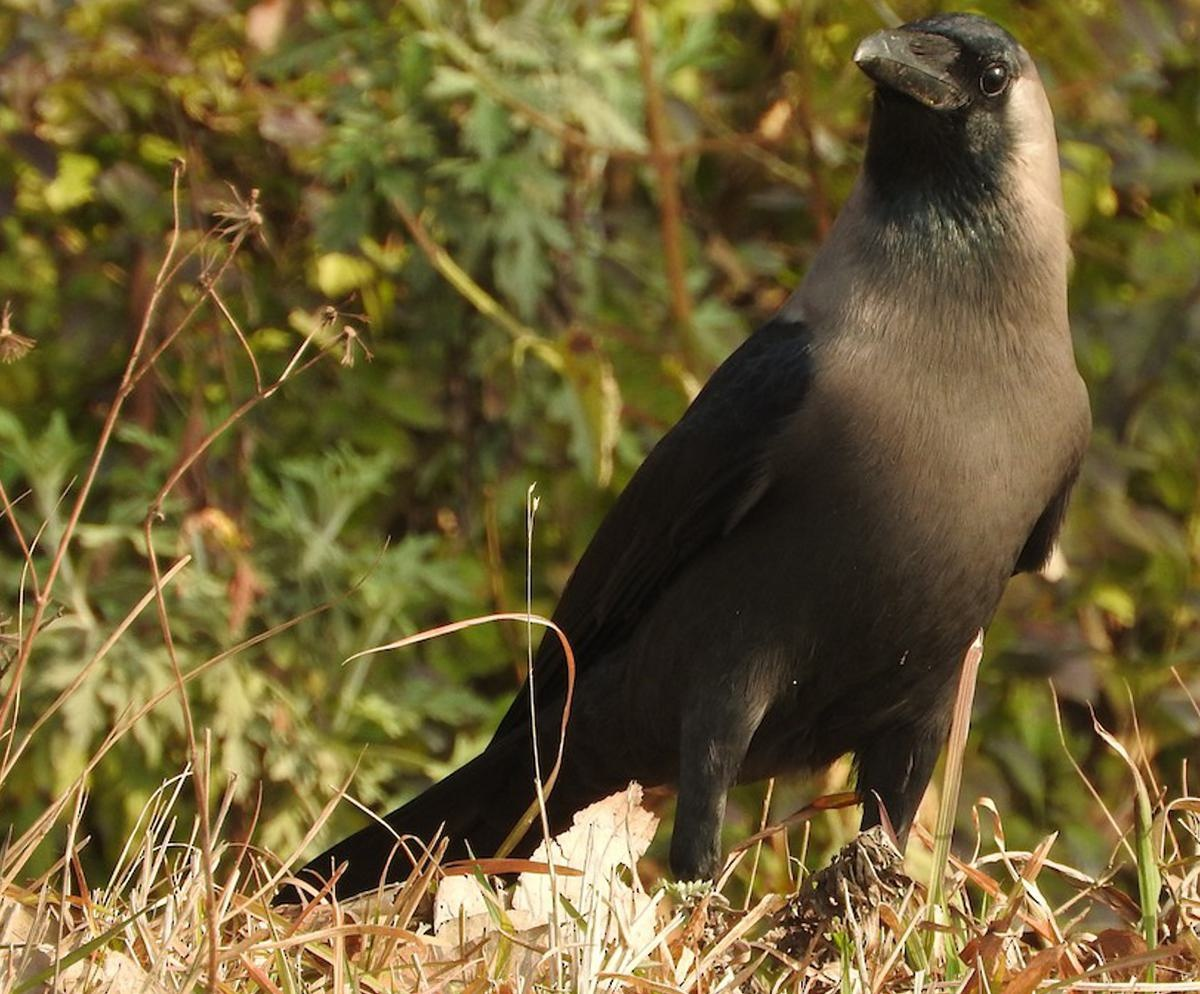crow: (289, 21, 1090, 944)
